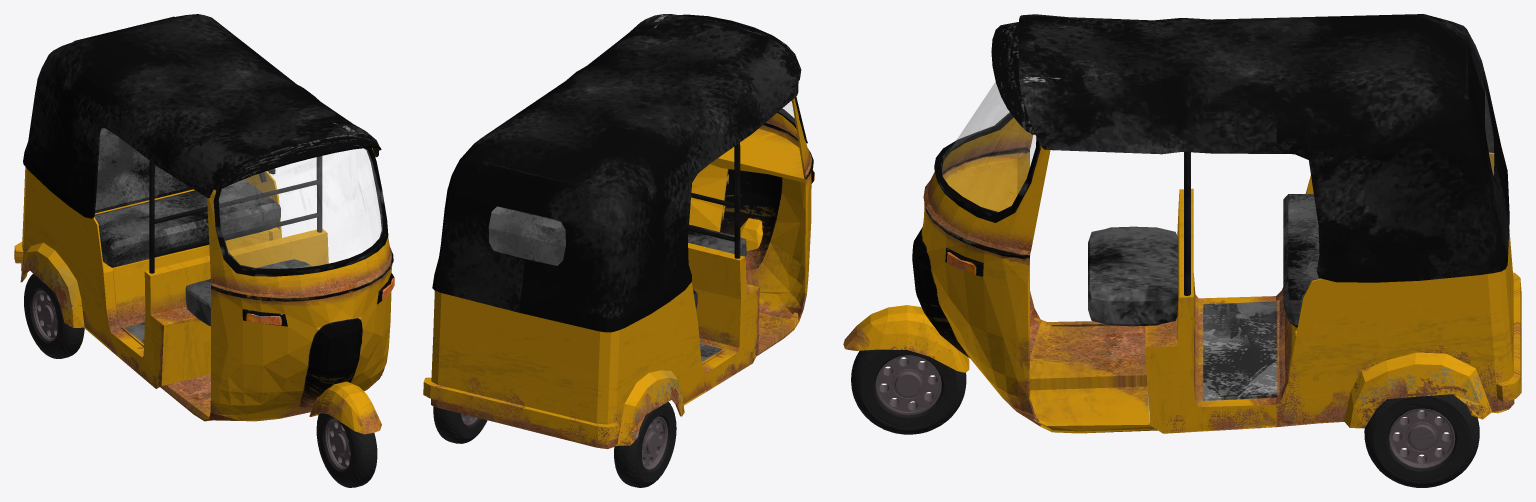
Rendered from tuktuk.glb.
3 views of the same model, side by side, from view 1: azimuth 30°, elevation 25°; view 2: azimuth 150°, elevation 25°; view 3: azimuth 270°, elevation 25° (orthographic). The views are drawn at different scales.
Visible parts, largest first — view 1: Plane.001_Body_01_0, Plane.002_Top_0, Plane.003_Glass_0, Rin_Llanta_0, Rin.001_Llanta_0, Rin.001_Metal Rin_0, Rin_Metal Rin_0; view 2: Plane.002_Top_0, Plane.001_Body_01_0, Rin.001_Llanta_0, Plane.003_Glass_0, Rin.001_Metal Rin_0; view 3: Plane.002_Top_0, Plane.001_Body_01_0, Plane.003_Glass_0, Rin.001_Llanta_0, Rin_Llanta_0, Rin_Metal Rin_0, Rin.001_Metal Rin_0.
Boxes of the visible parts, bbox=[...] form: Plane.001_Body_01_0: bbox=[14, 133, 394, 434]; Plane.002_Top_0: bbox=[23, 14, 378, 326]; Plane.003_Glass_0: bbox=[219, 148, 382, 268]; Rin_Llanta_0: bbox=[316, 413, 377, 487]; Rin.001_Llanta_0: bbox=[24, 273, 84, 358]; Rin.001_Metal Rin_0: bbox=[32, 289, 57, 341]; Rin_Metal Rin_0: bbox=[325, 418, 350, 470]; Plane.002_Top_0: bbox=[432, 14, 798, 332]; Plane.001_Body_01_0: bbox=[423, 14, 814, 449]; Rin.001_Llanta_0: bbox=[433, 402, 676, 487]; Plane.003_Glass_0: bbox=[489, 101, 794, 265]; Rin.001_Metal Rin_0: bbox=[461, 413, 667, 469]; Plane.002_Top_0: bbox=[1018, 14, 1509, 327]; Plane.001_Body_01_0: bbox=[843, 22, 1521, 433]; Plane.003_Glass_0: bbox=[942, 82, 1493, 212]; Rin.001_Llanta_0: bbox=[1364, 394, 1479, 487]; Rin_Llanta_0: bbox=[851, 349, 966, 434]; Rin_Metal Rin_0: bbox=[875, 355, 941, 415]; Rin.001_Metal Rin_0: bbox=[1389, 408, 1455, 468].
Bounding box in the file's own units: 1.24 × 1.82 × 2.89.
5 materials, 3 textured.
